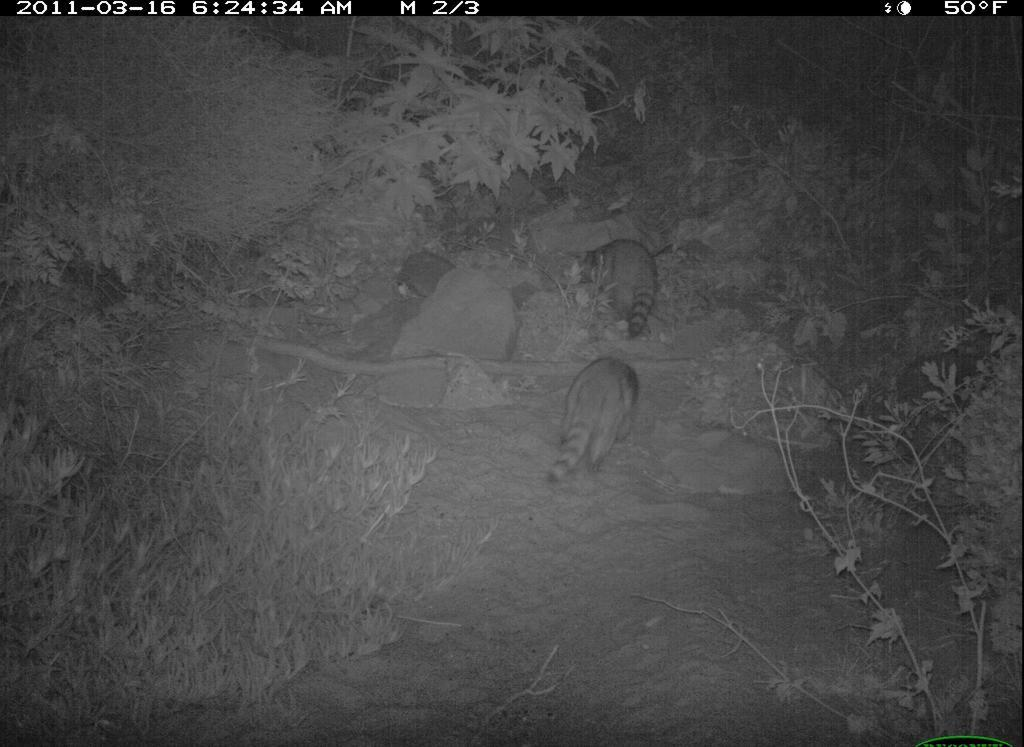raccoon: (537, 346, 658, 492), (568, 236, 671, 347)
